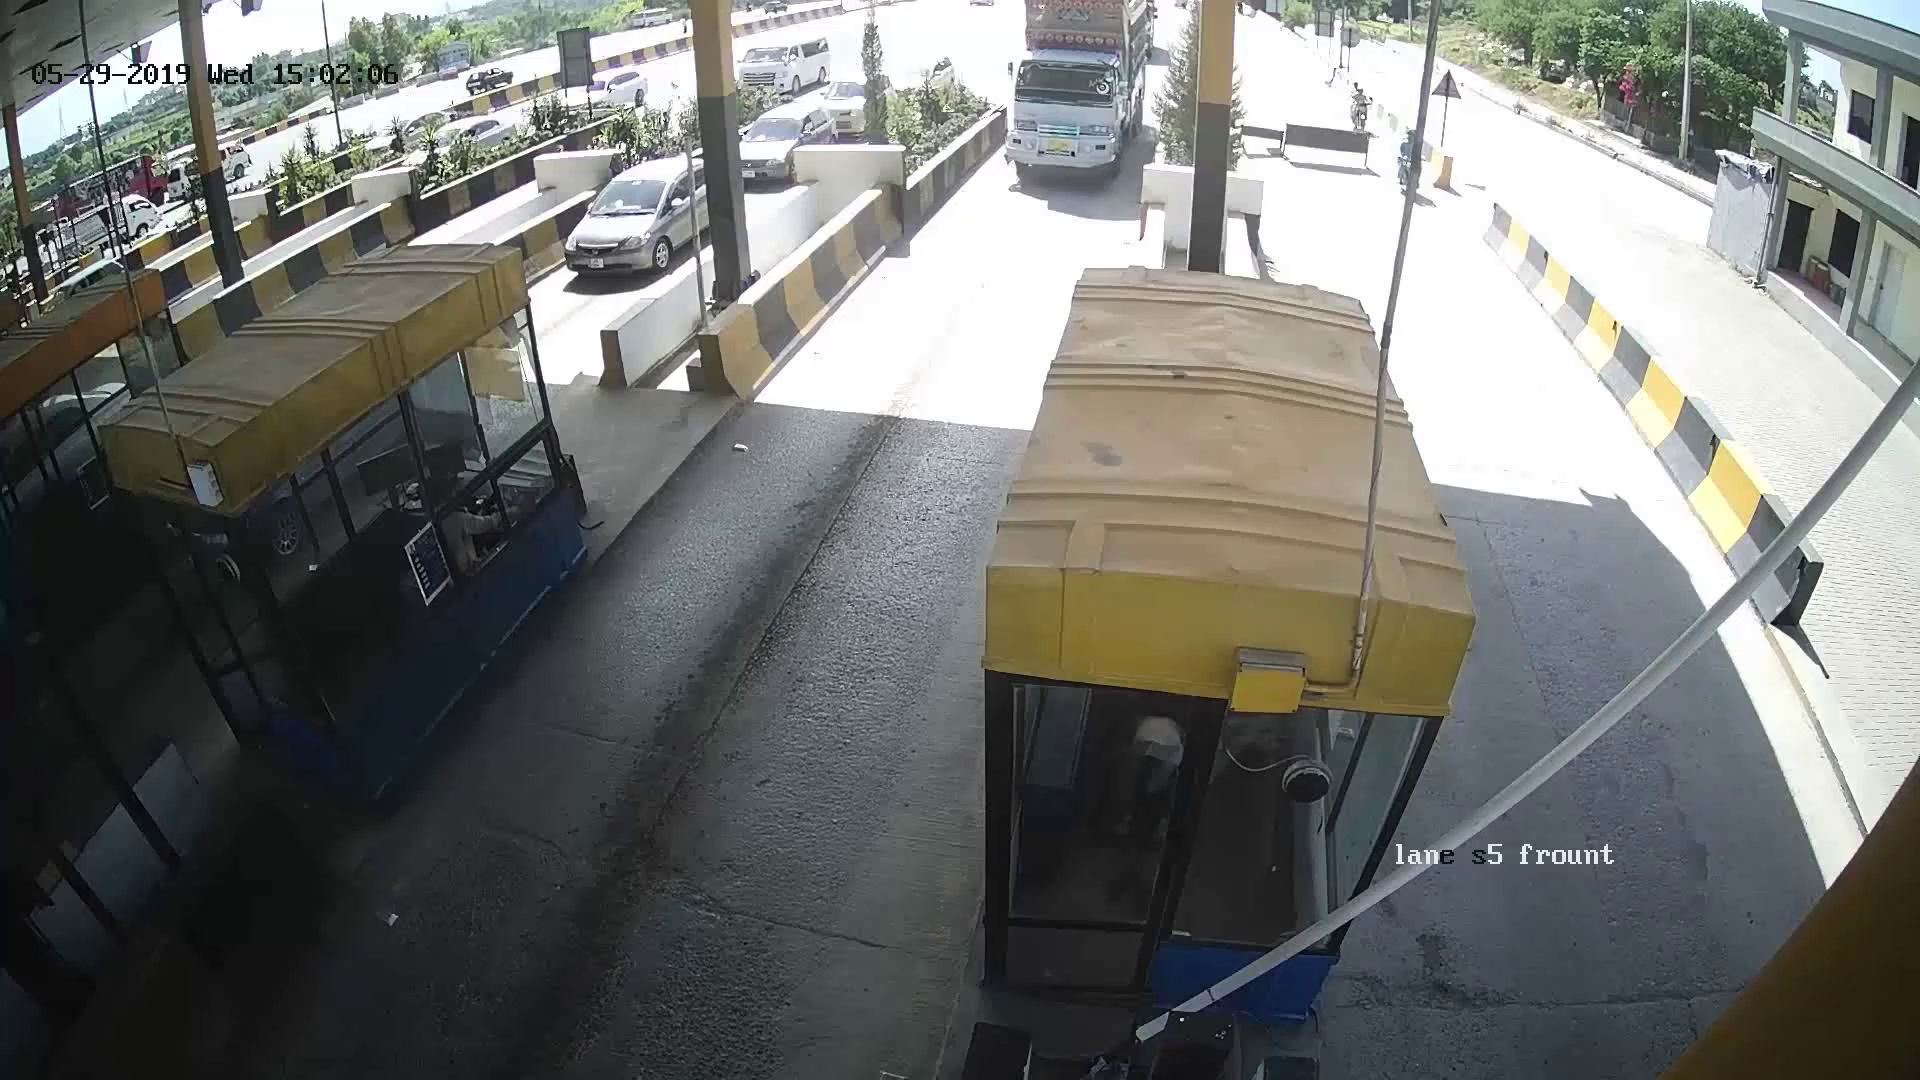truck: (1004, 32, 1145, 161)
